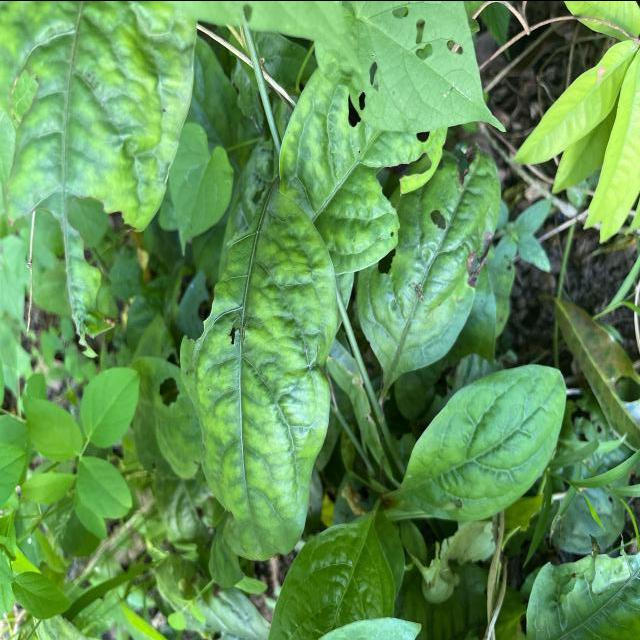Plumbago indica: (182, 168, 344, 564), (350, 140, 498, 392), (394, 361, 571, 519)
